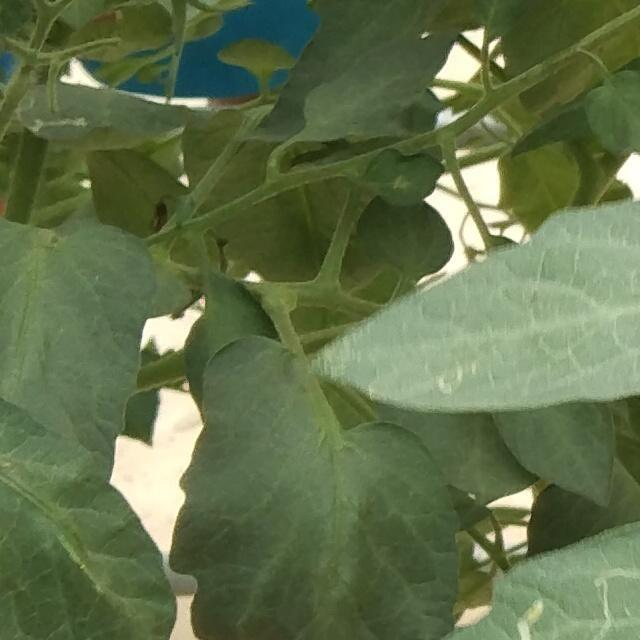Healthy: (167, 322, 468, 640)
Leaf_Miner: (432, 516, 640, 640), (14, 76, 195, 152)
